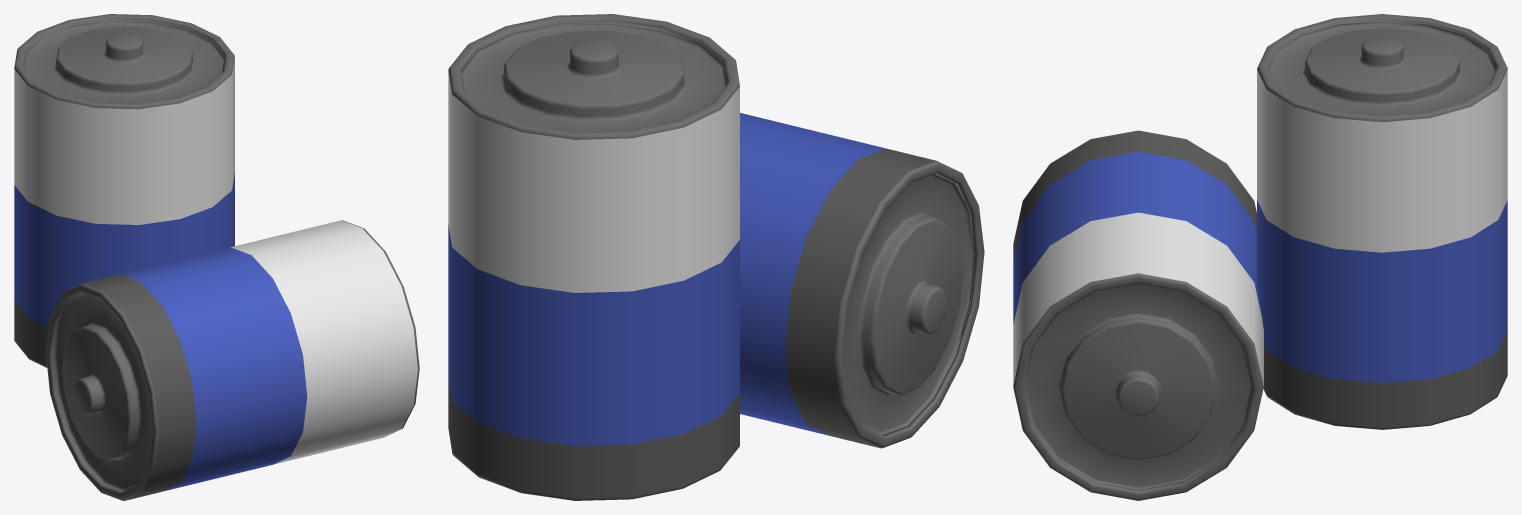
File: Revisi baterai 1.fbx
3 renders of one model, left to right at view 1: azimuth 30°, elevation 25°; view 2: azimuth 150°, elevation 25°; view 3: azimuth 270°, elevation 25°, orthographic. The views are drawn at different scales.
Parts seen in each view (by area): view 1: Cylinder; view 2: Cylinder; view 3: Cylinder.
Part boxes in pixels (box(x1,y1,x2,y2)): Cylinder: box(14, 14, 419, 500); Cylinder: box(448, 14, 984, 500); Cylinder: box(1013, 14, 1507, 500).
Bounding box in the file's own units: 312 × 395 × 339.
